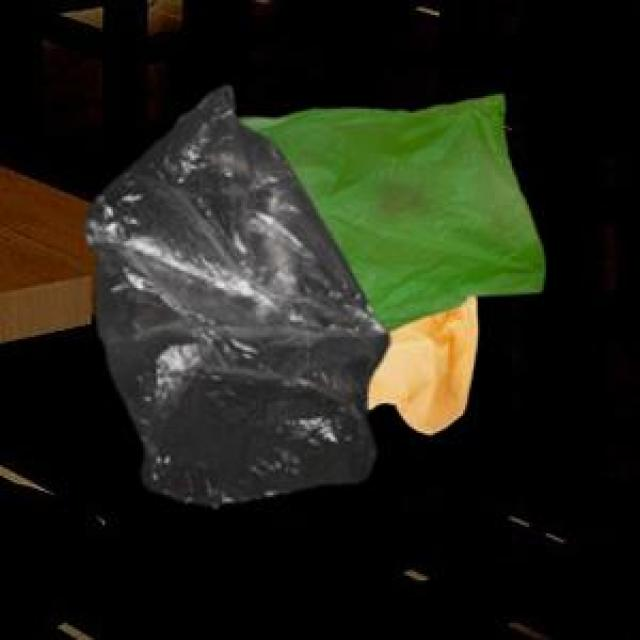plastic: (76, 54, 542, 535)
